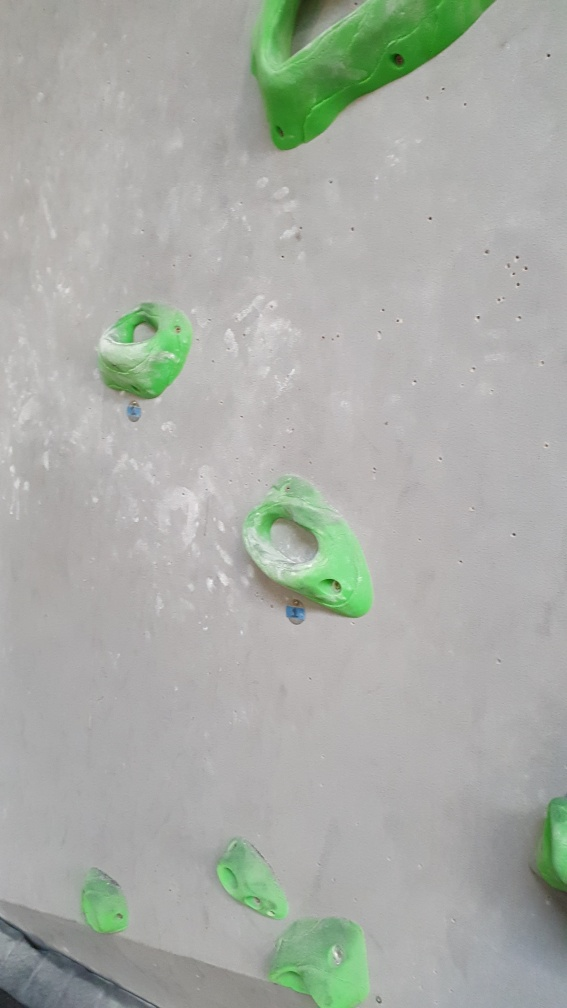Hand Start: (283, 596, 307, 629), (121, 392, 143, 427)
Pocket: (244, 1, 498, 154), (241, 471, 377, 621), (96, 299, 195, 397)
